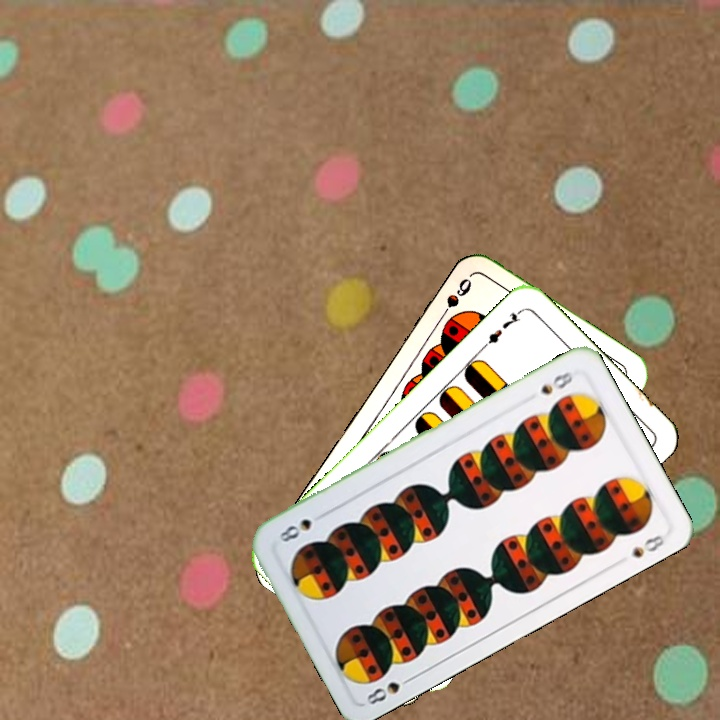E7: (478, 305, 525, 351)
S8: (362, 672, 417, 708), (536, 367, 576, 397)
S9: (434, 273, 475, 327)
